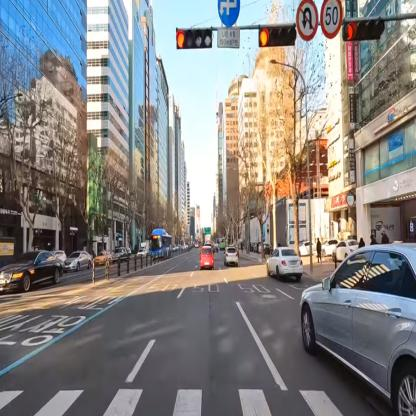red: (259, 26, 296, 49), (176, 30, 212, 50), (343, 23, 383, 40)
